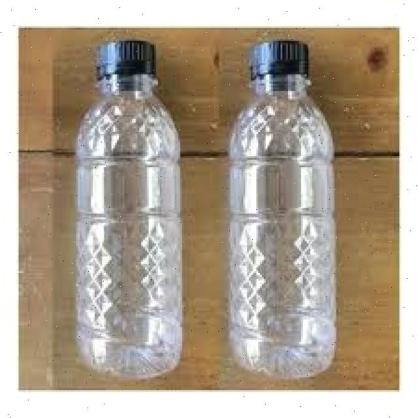bottle: (208, 38, 347, 387), (68, 37, 177, 388)
cap: (91, 40, 158, 89), (244, 43, 313, 88)
